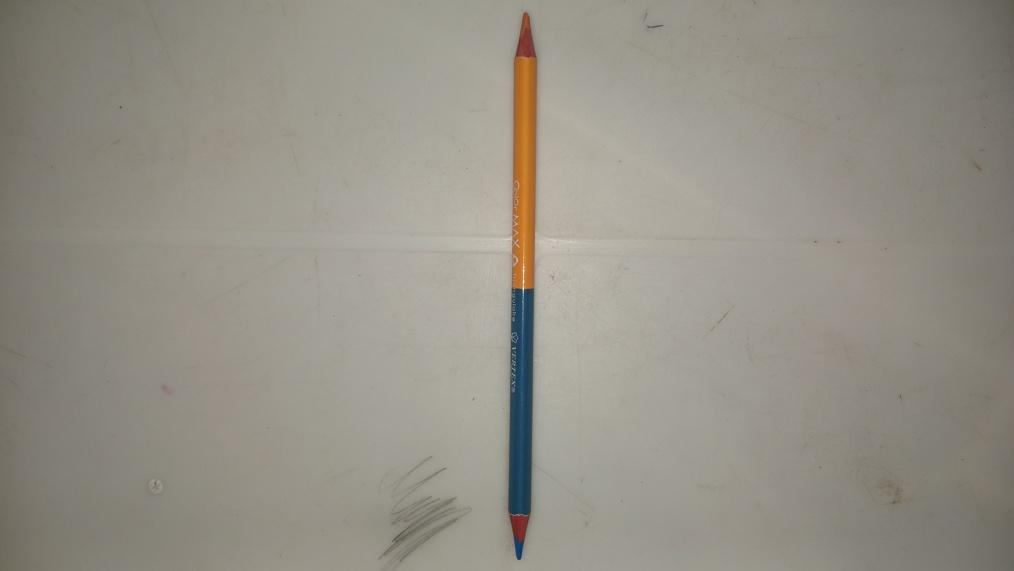Pencil: (510, 7, 534, 559)
